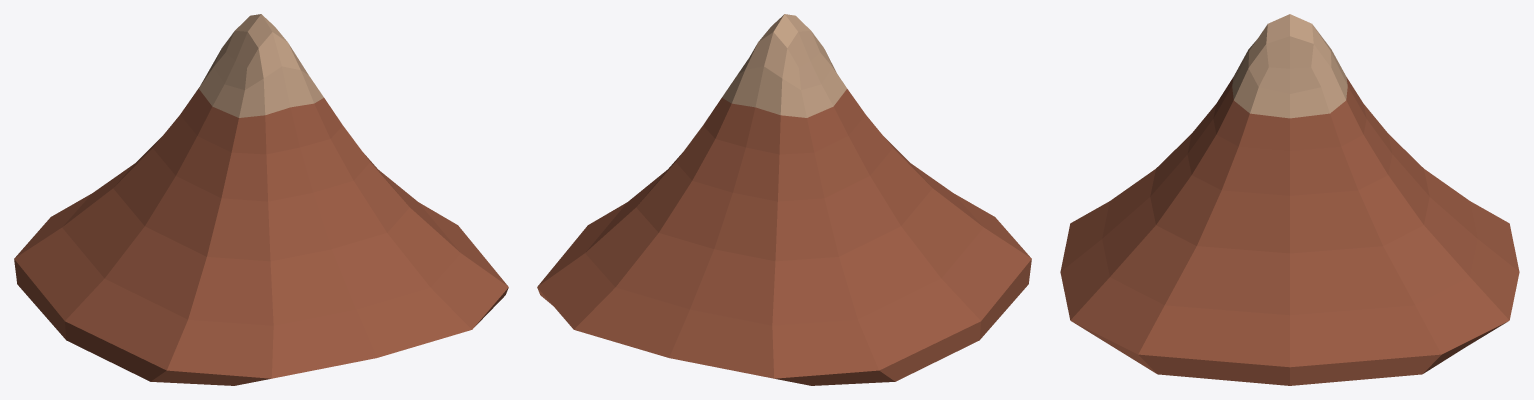
File: mountain.fbx
3 views of the same model, side by side, from view 1: azimuth 30°, elevation 25°; view 2: azimuth 150°, elevation 25°; view 3: azimuth 270°, elevation 25° (orthographic).
Visible parts, largest first — view 1: Cube; view 2: Cube; view 3: Cube.
Boxes of the visible parts, x1,y1,x2,y2 form: Cube: (14, 14, 508, 385); Cube: (537, 14, 1031, 385); Cube: (1060, 14, 1519, 385).
Size of the model in its own units: 4926 by 3441 by 5009.
